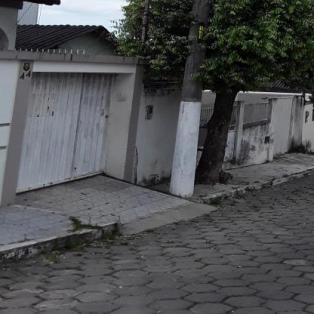Poste: (157, 0, 235, 202)
